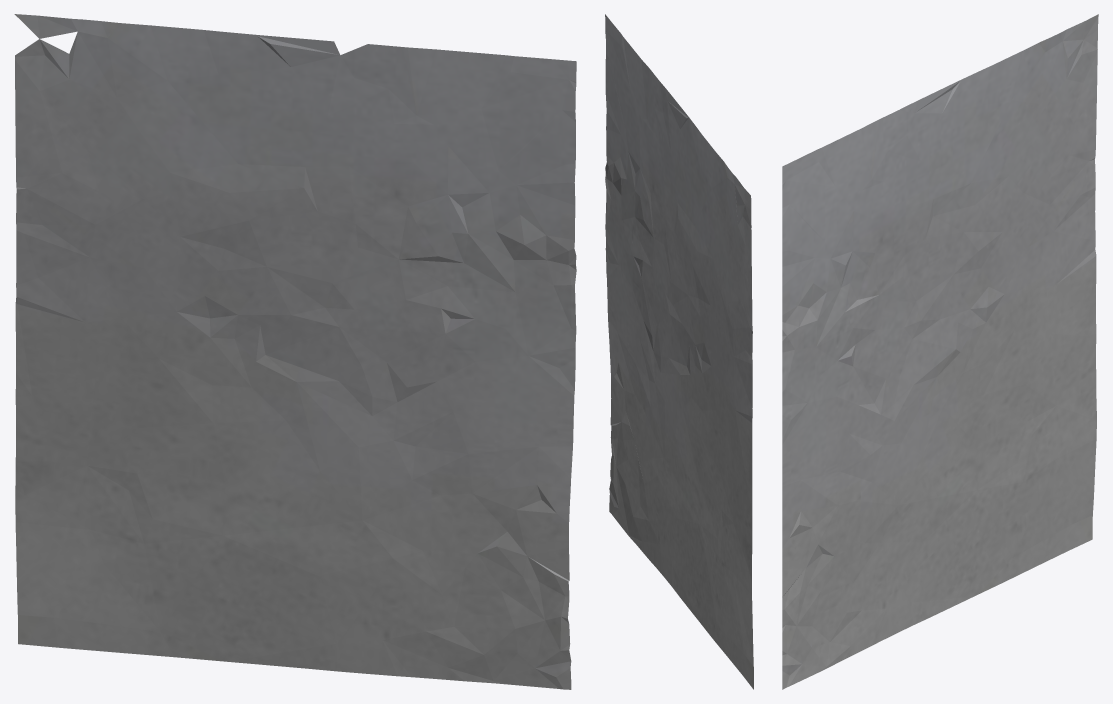
3 renders of one model, left to right at view 1: azimuth 30°, elevation 25°; view 2: azimuth 150°, elevation 25°; view 3: azimuth 270°, elevation 25°, orthographic. The views are drawn at different scales.
Size of the model in its own units: 1.04 by 1.67 by 0.9143.
2 materials, 2 textured.
